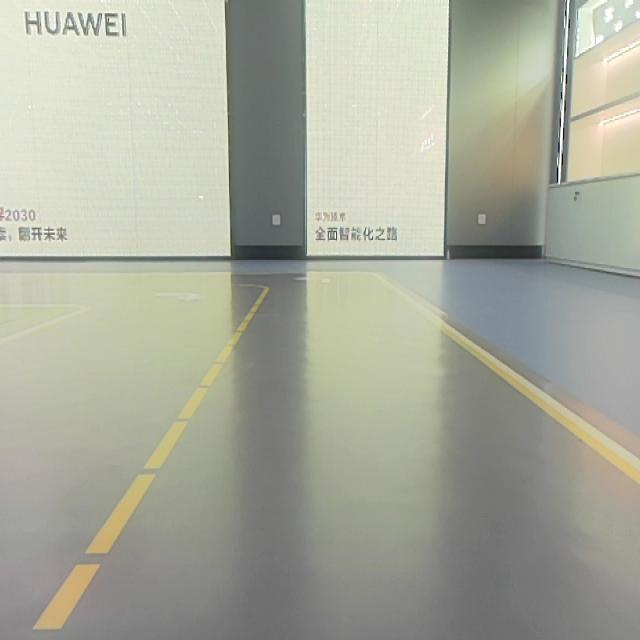left_lane: (32, 282, 273, 637)
right_lane: (403, 295, 640, 482)
